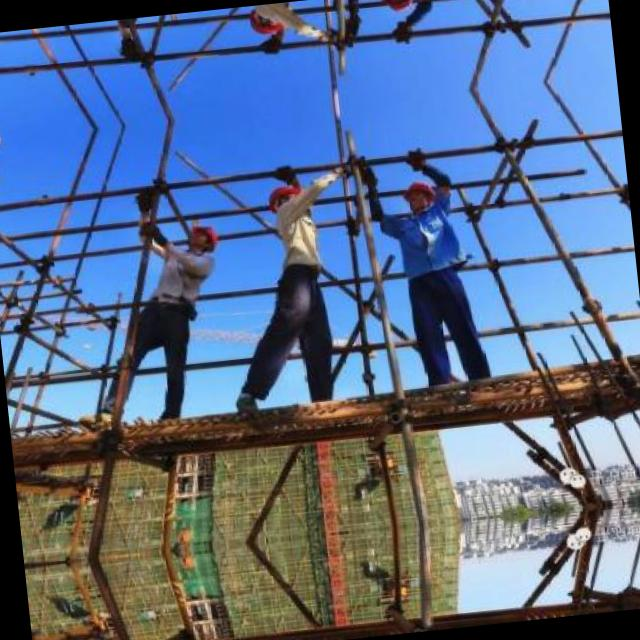helmet: (398, 172, 446, 214), (262, 176, 310, 216), (243, 2, 291, 42), (182, 216, 224, 254), (377, 0, 426, 20), (160, 11, 200, 23)
